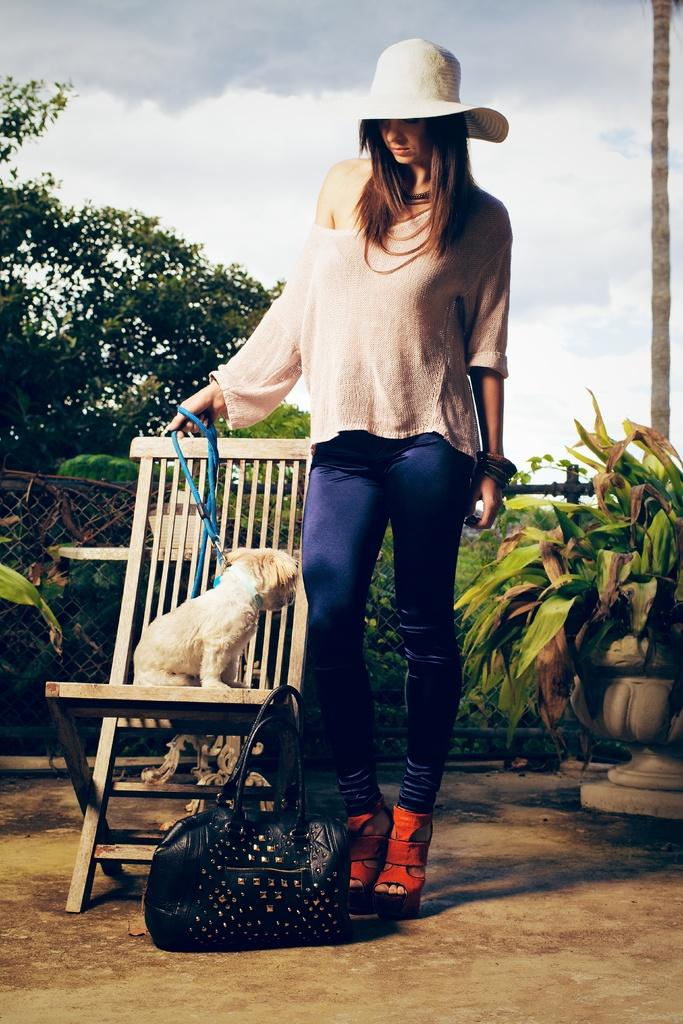Chair: (40, 435, 312, 911)
